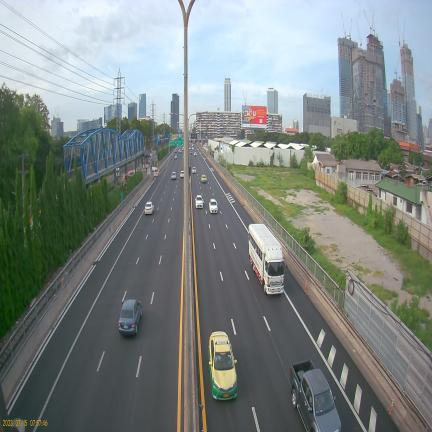car: (118, 299, 142, 334), (209, 198, 218, 213), (144, 201, 154, 214), (195, 195, 204, 208), (192, 167, 197, 174), (171, 172, 176, 179), (180, 171, 184, 178)
pickup: (290, 360, 341, 432)
taxi: (209, 331, 237, 400), (201, 174, 207, 183)
truck: (249, 224, 284, 294)
van: (152, 167, 159, 176)
